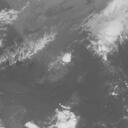cyclone: (60, 52, 72, 64)
